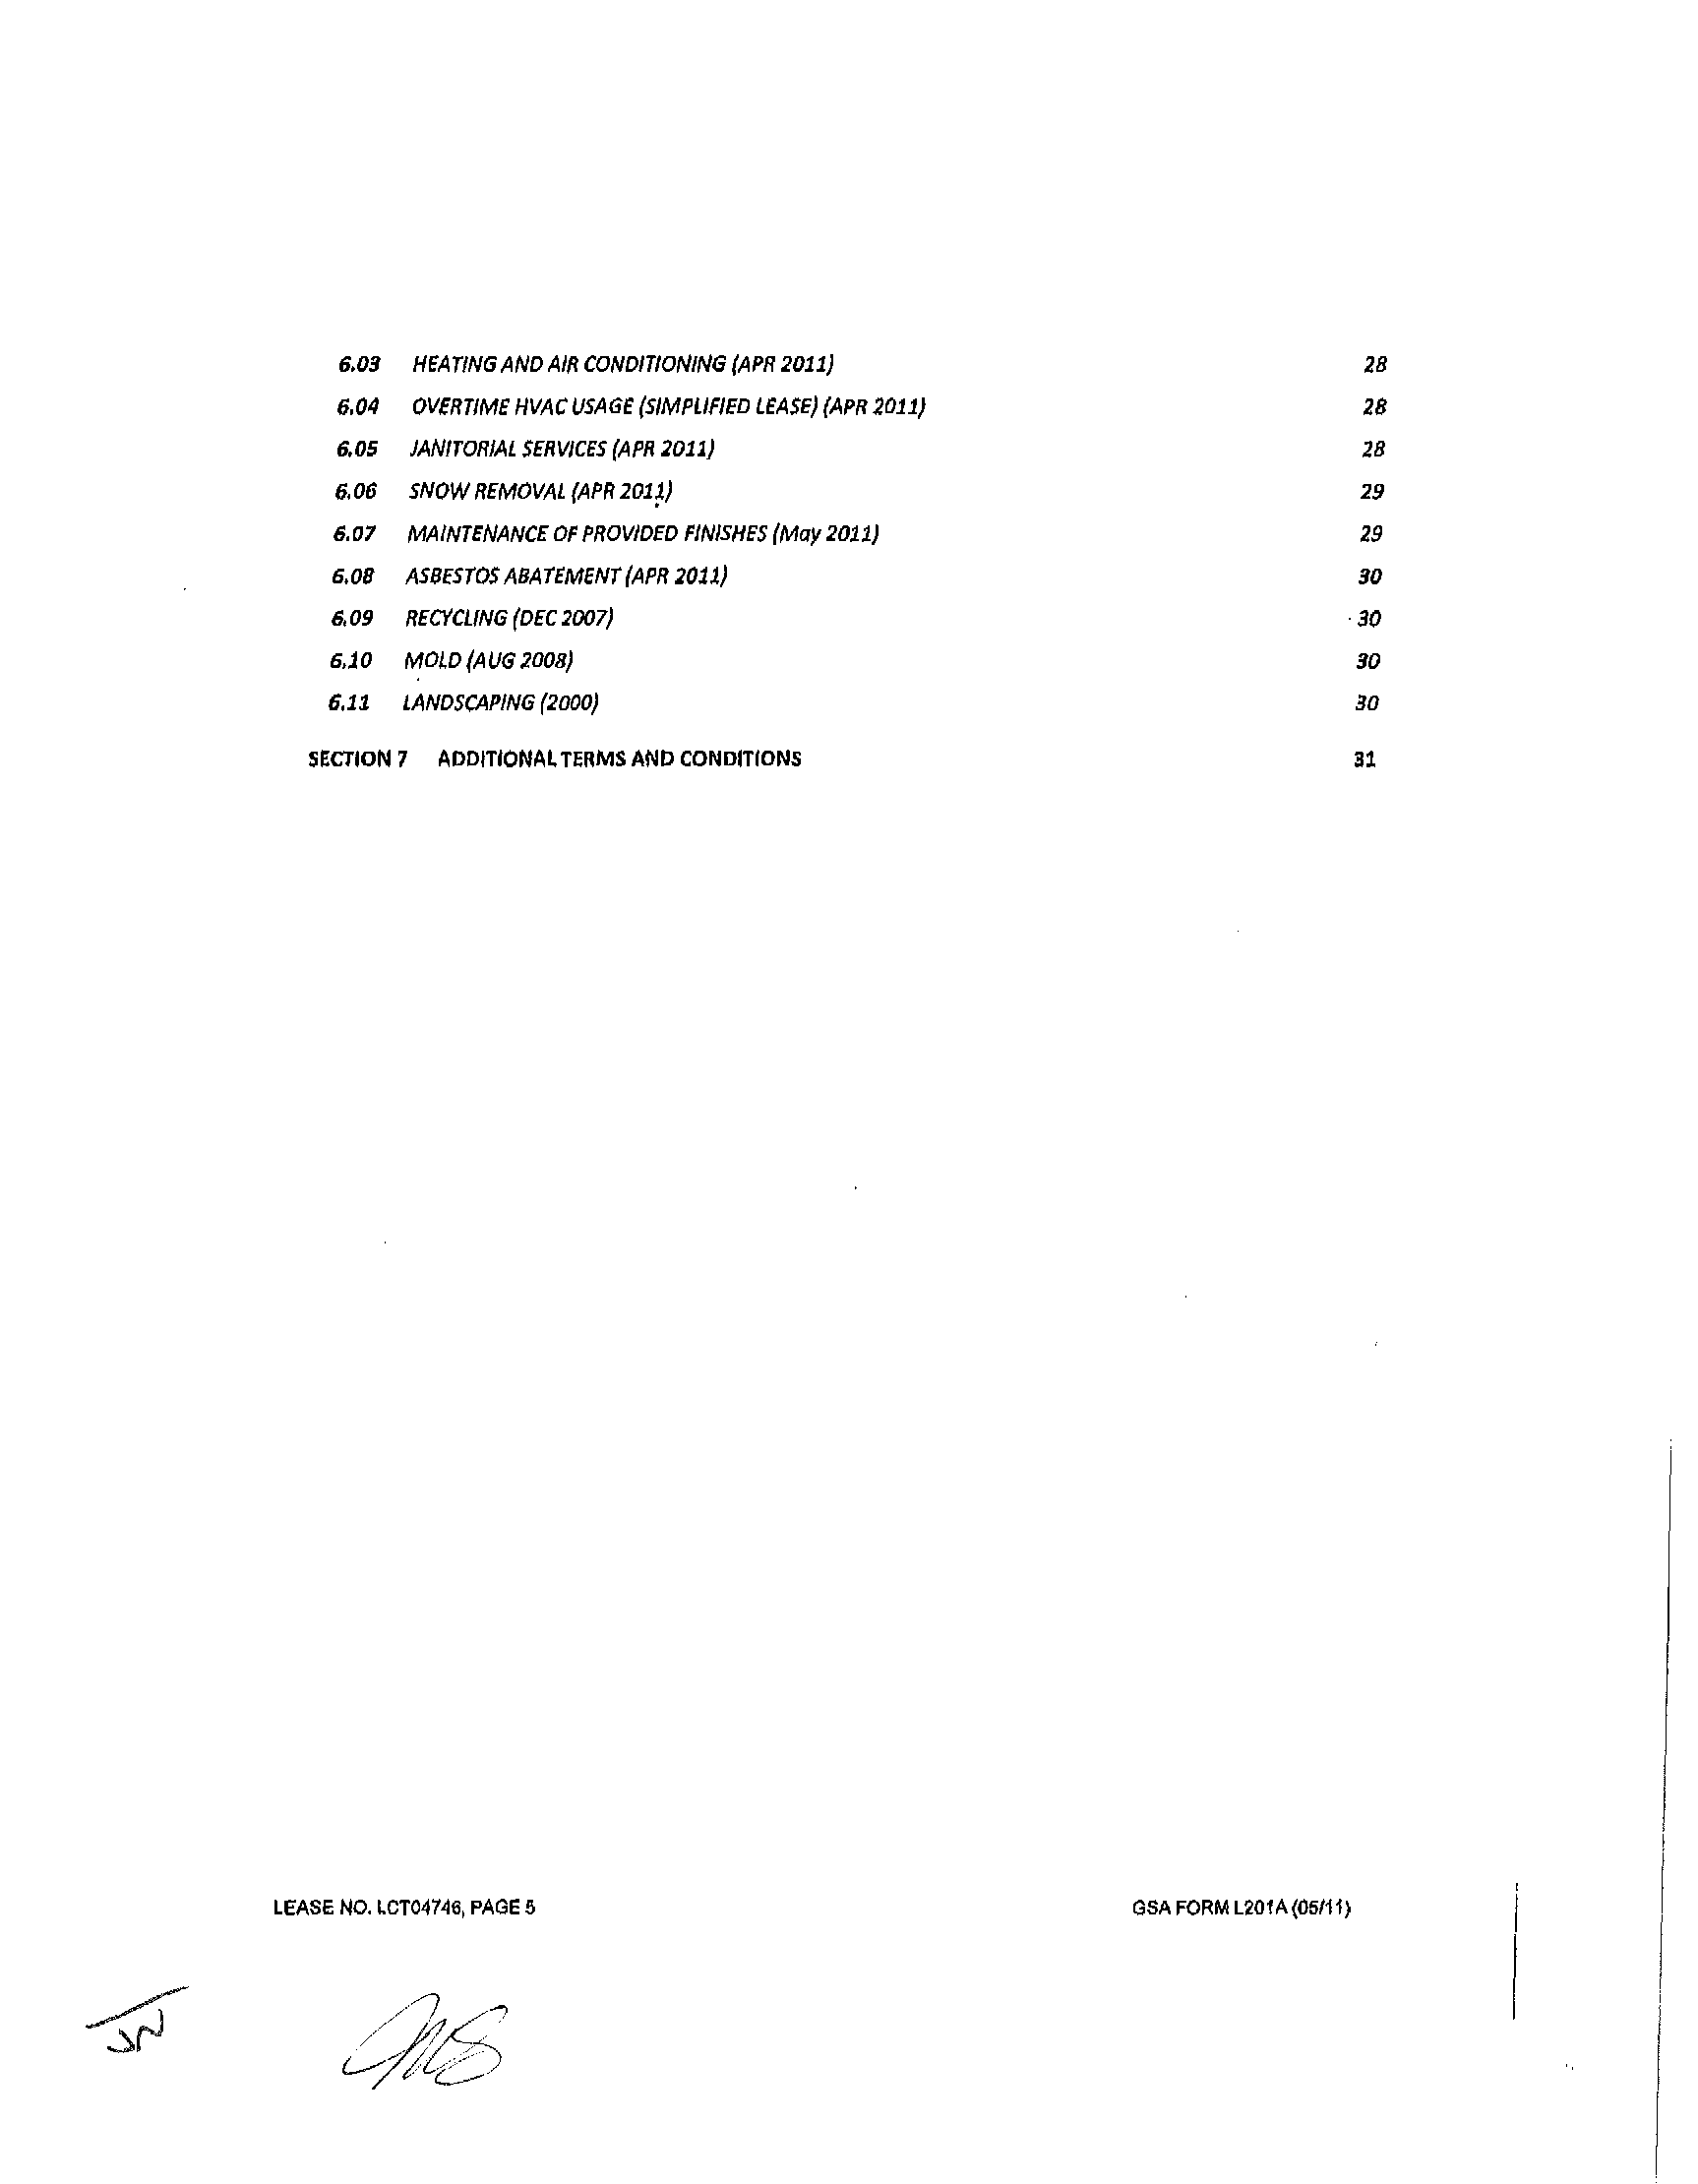handwritten: (319, 1970, 574, 2120), (73, 1982, 193, 2065)
